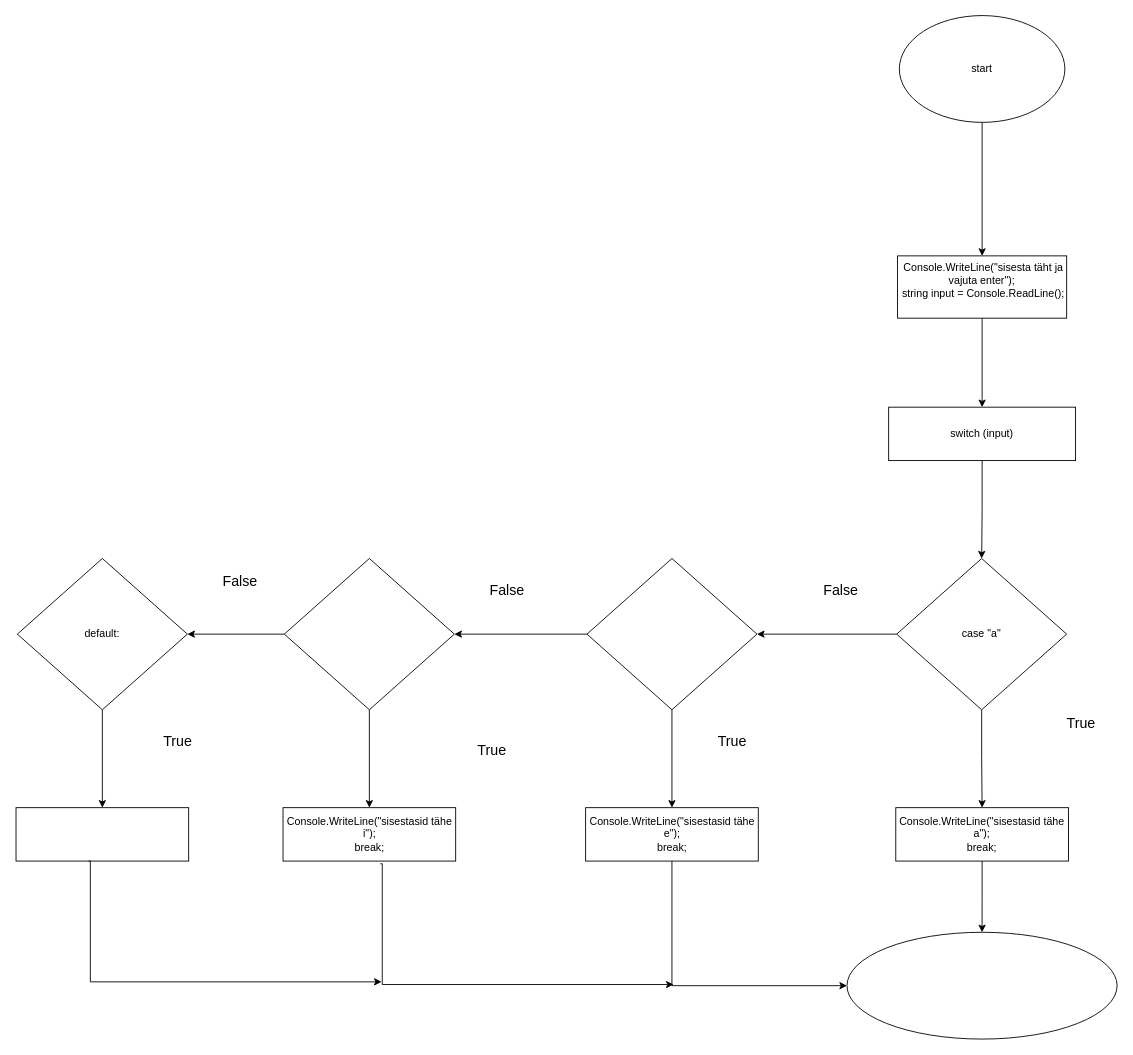
This 1133x1055 diagram has some shape labels left out. Here are the shapes that lost their labels. From the top down, the box of each, then its label:
(283, 558, 454, 710): case "i"
(586, 558, 757, 710): case "e"
(15, 807, 189, 861): Console.WriteLine("Ei ole vokaal"); break;
(846, 931, 1117, 1039): End
